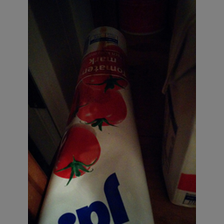tomato_sauce: (38, 41, 155, 224)
